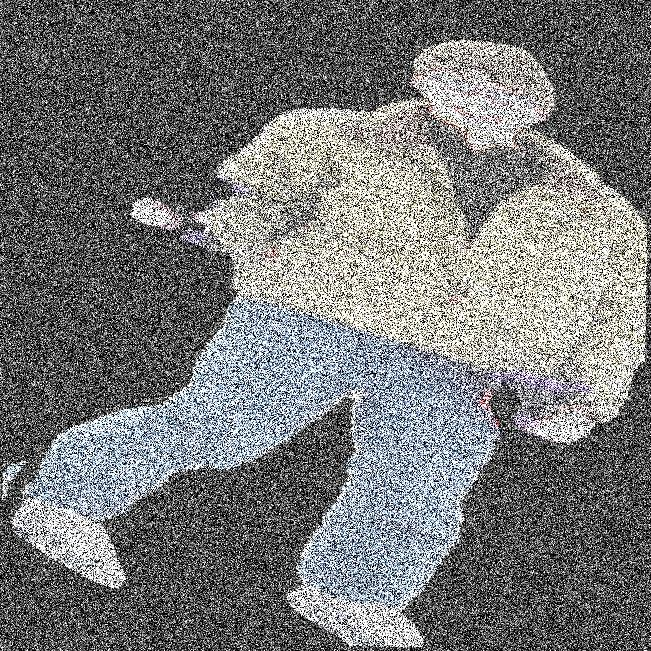Pessoa: (164, 0, 644, 650)
